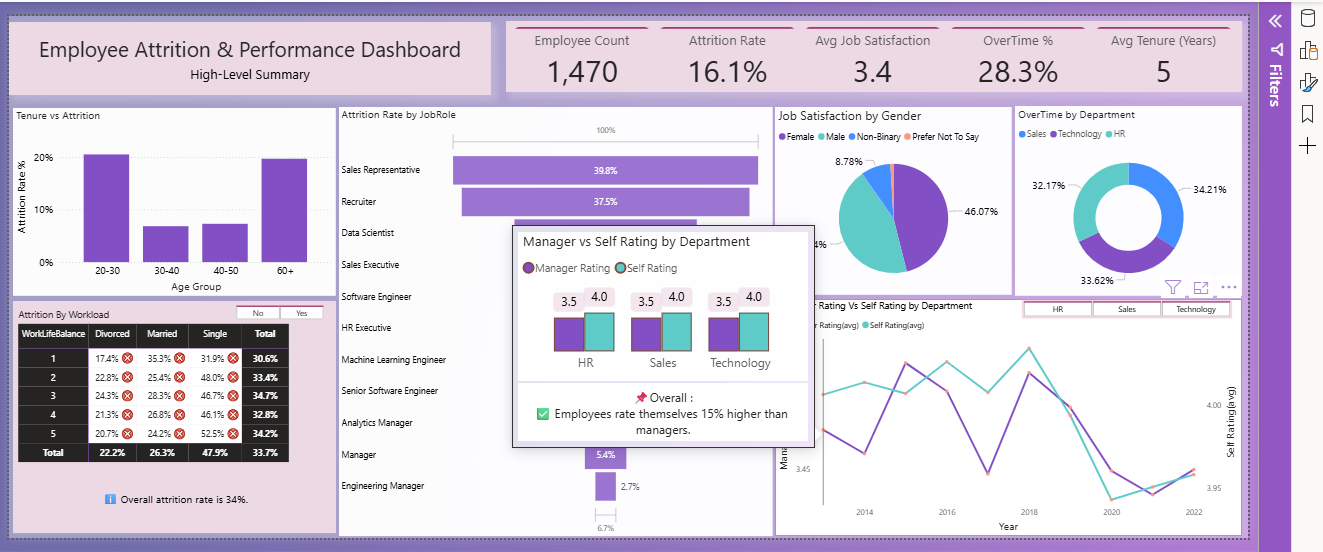

Layout of this report page (visuals, bound fields, positions):
{"tool":"powerbi","page":{"name":"Page 1","canvas":[1900,800],"ordinal":0},"visuals":[{"type":"cardVisual","fields":{"Data":["Page1 Measure.TotalEmployee","Page1 Measure.Attrition Rate","Page1 Measure.Avg Job Satisfaction","Page1 Measure.OverTime %","Page1 Measure.Avg Tenure"]},"box":[762.1,7.7,1128.7,108.9],"z":0},{"type":"pivotTable","title":"Attrition By Workload","fields":{"Rows":["PerformanceRating.WorkLifeBalance"],"Values":["Page1 Measure.AttritionRateNew"],"Columns":["PerformanceRating.PR_MaritalStatus"]},"box":[6.1,437,495.3,355.8],"z":0,"group":"g1"},{"type":"group","id":"g1","title":"Group 1","box":[6.1,437,495.3,355.8],"z":1000},{"type":"funnel","fields":{"Category":["Employee.JobRole"],"Y":["Page1 Measure.Attrition Rate"]},"box":[505.3,139.2,664.8,658],"z":2000},{"type":"lineChart","title":"Manager Rating Vs Self Rating by Department","fields":{"Y":["Page1 Measure.Avg_ManagerRating"],"Y2":["Page1 Measure.Avg_SelfRating"],"Category":["Calendar.Year"]},"box":[1174.7,434,716.1,363.4],"z":2000,"group":"g2"},{"type":"donutChart","title":"OverTime by Department","fields":{"Category":["Employee.Department"],"Y":["Page1 Measure.OverTime %"]},"box":[1542.7,138,348.1,291.4],"z":3000},{"type":"clusteredColumnChart","title":"Tenure vs Attrition","fields":{"Category":["Employee.Age Group"],"Y":["Page1 Measure.Attrition Rate"]},"box":[6.1,141.1,495.3,288.3],"z":4000},{"type":"advancedSlicerVisual","fields":{"Values":["Employee.Department"]},"box":[1553.5,435.5,322,27.6],"z":4000,"group":"g2"},{"type":"pieChart","fields":{"Category":["Employee.Gender"],"Y":["CountNonNull(PerformanceRating.JobSatisfaction)"]},"box":[1174.7,139.5,363.4,288.3],"z":5000},{"type":"card","fields":{"Values":["Page1 Measure.AttritionNarrative"]},"box":[11.4,692.7,490,98.6],"z":5000,"group":"g1"},{"type":"group","id":"g2","title":"Group 2","box":[1174.7,434,716.1,363.4],"z":6000},{"type":"advancedSlicerVisual","fields":{"Values":["Employee.OverTime"]},"box":[342.2,440.1,148.6,29.3],"z":6000,"group":"g1"},{"type":"shape","title":"Employee Attrition & Performance Dashboard ","box":[9.2,6.1,739.1,111.9],"z":7000}]}

Visuals, with their boxes in screenshot pixels (x1, y1, x2, y2):
cardVisual - Page1 Measure.TotalEmployee x Page1 Measure.Attrition Rate: Rect(503, 15, 1243, 87)
"Attrition By Workload" pivotTable: Rect(7, 297, 332, 530)
"Group 1" group: Rect(7, 297, 332, 530)
funnel - Employee.JobRole x Page1 Measure.Attrition Rate: Rect(335, 102, 770, 533)
"Manager Rating Vs Self Rating by Department" lineChart: Rect(773, 295, 1243, 533)
"OverTime by Department" donutChart: Rect(1015, 101, 1243, 292)
"Tenure vs Attrition" clusteredColumnChart: Rect(7, 103, 332, 292)
advancedSlicerVisual - Employee.Department: Rect(1022, 296, 1233, 314)
pieChart - Employee.Gender x CountNonNull(PerformanceRating.JobSatisfaction): Rect(773, 102, 1012, 291)
card - Page1 Measure.AttritionNarrative: Rect(11, 464, 332, 529)
"Group 2" group: Rect(773, 295, 1243, 533)
advancedSlicerVisual - Employee.OverTime: Rect(228, 299, 325, 318)
"Employee Attrition & Performance Dashboard " shape: Rect(9, 14, 494, 88)
